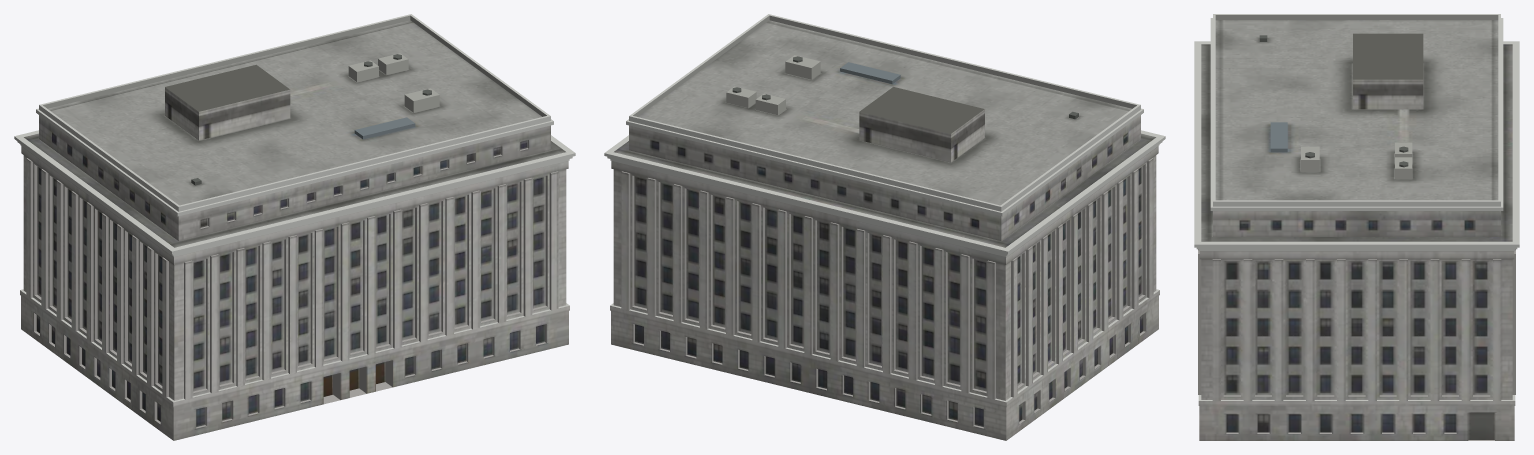
Rendered from dc_fed_white_a.glb.
The picture shows the model from 3 angles, left to right: view 1: azimuth 30°, elevation 25°; view 2: azimuth 150°, elevation 25°; view 3: azimuth 270°, elevation 25°; orthographic projection. The views are drawn at different scales.
Visible parts, largest first — view 1: dc_fed_white_a; view 2: dc_fed_white_a; view 3: dc_fed_white_a.
Part boxes in pixels (bbox=[...]): dc_fed_white_a: bbox=[14, 14, 575, 440]; dc_fed_white_a: bbox=[604, 14, 1165, 440]; dc_fed_white_a: bbox=[1194, 14, 1519, 440].
Bounding box in the file's own units: 61.8 × 36.6 × 41.8.
Materials: 1 (1 with a texture image).
